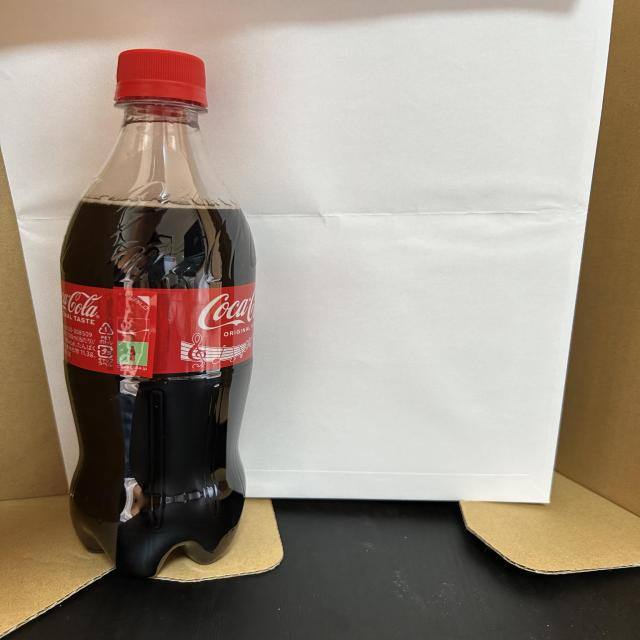high: (60, 49, 255, 576)
